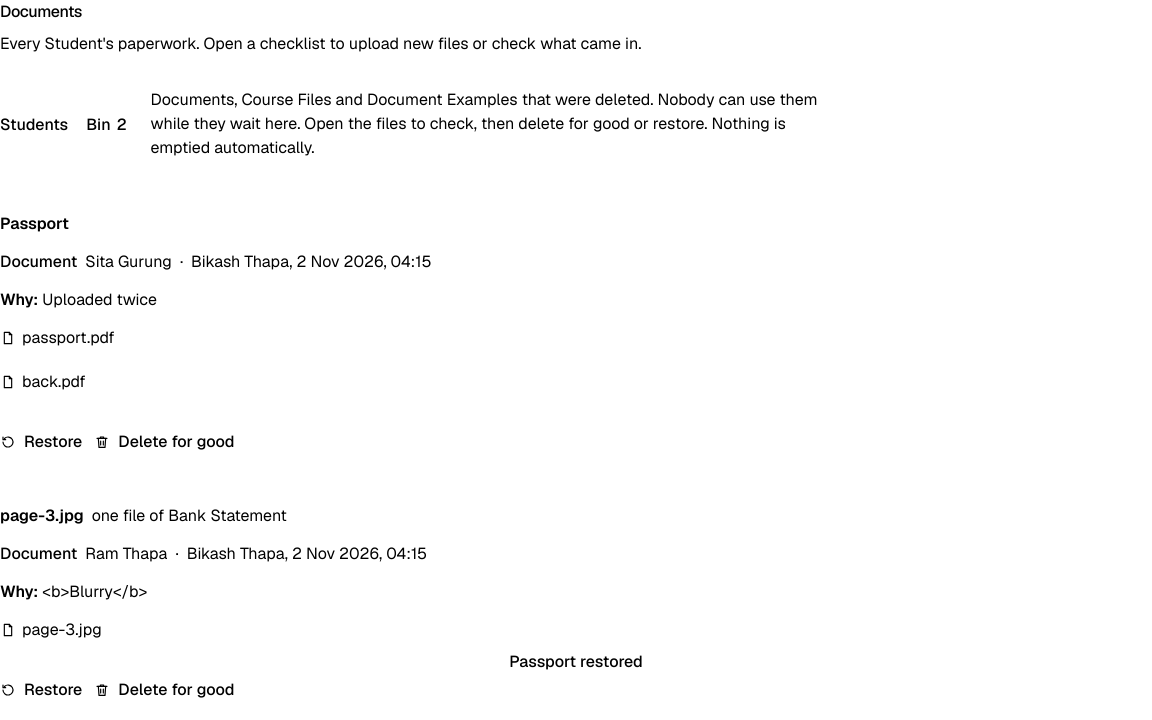
Scenario: the Bin tab (Admins, issue 79) › deletes one file for good after asking
Click the button named "Delete page-3.jpg for good" at [164, 690], box [94,668,235,712]
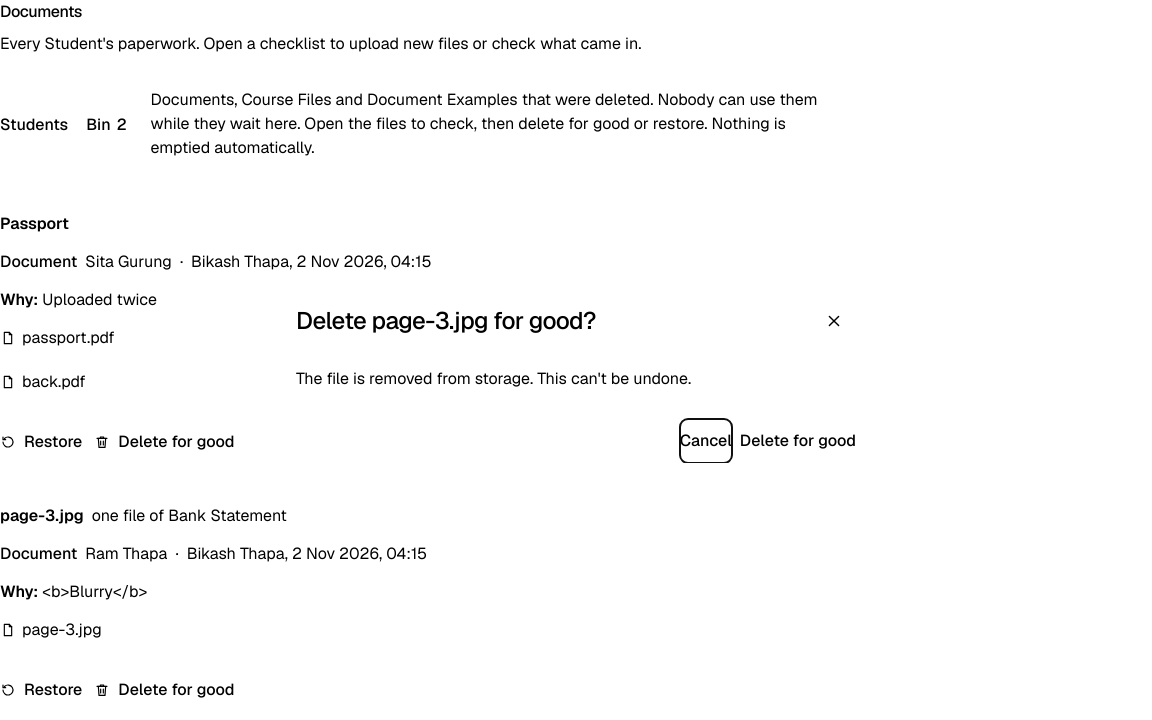
Expected: the dialog "Delete page-3.jpg for good?" shows "The file is removed from storage. This can't be undone.", [296,368,691,388]
Click the button "Delete for good" at [798, 440], box [740,418,856,462]
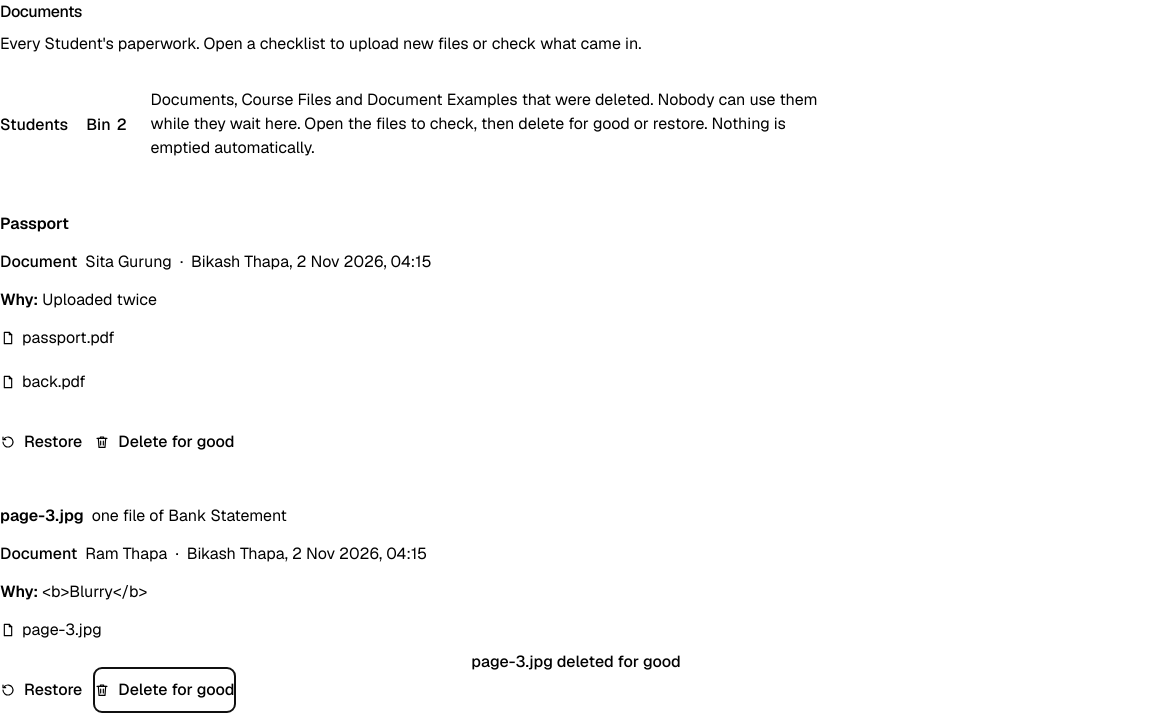
Expected: the text "page-3.jpg deleted for good" is shown, [471,651,681,672]
